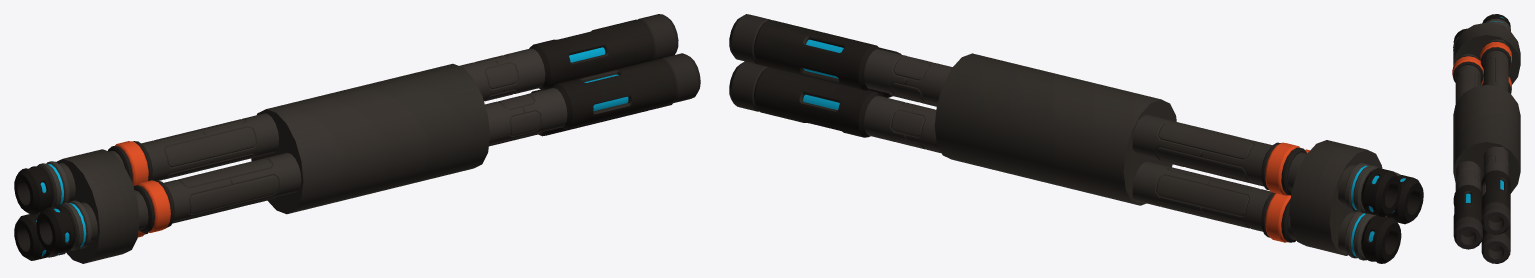
File: GL6_Barrel.fbx
3 renders of one model, left to right at view 1: azimuth 30°, elevation 25°; view 2: azimuth 150°, elevation 25°; view 3: azimuth 270°, elevation 25°, orthographic. The views are drawn at different scales.
Parts seen in each view (by area): view 1: GL6_Barrel; view 2: GL6_Barrel; view 3: GL6_Barrel.
Part boxes in pixels (left/top/right/bottom): GL6_Barrel: left=14, top=14, right=700, bottom=263; GL6_Barrel: left=729, top=14, right=1423, bottom=263; GL6_Barrel: left=1452, top=14, right=1520, bottom=263.
Size of the model in its own units: 98.58 by 14.25 by 14.43.
